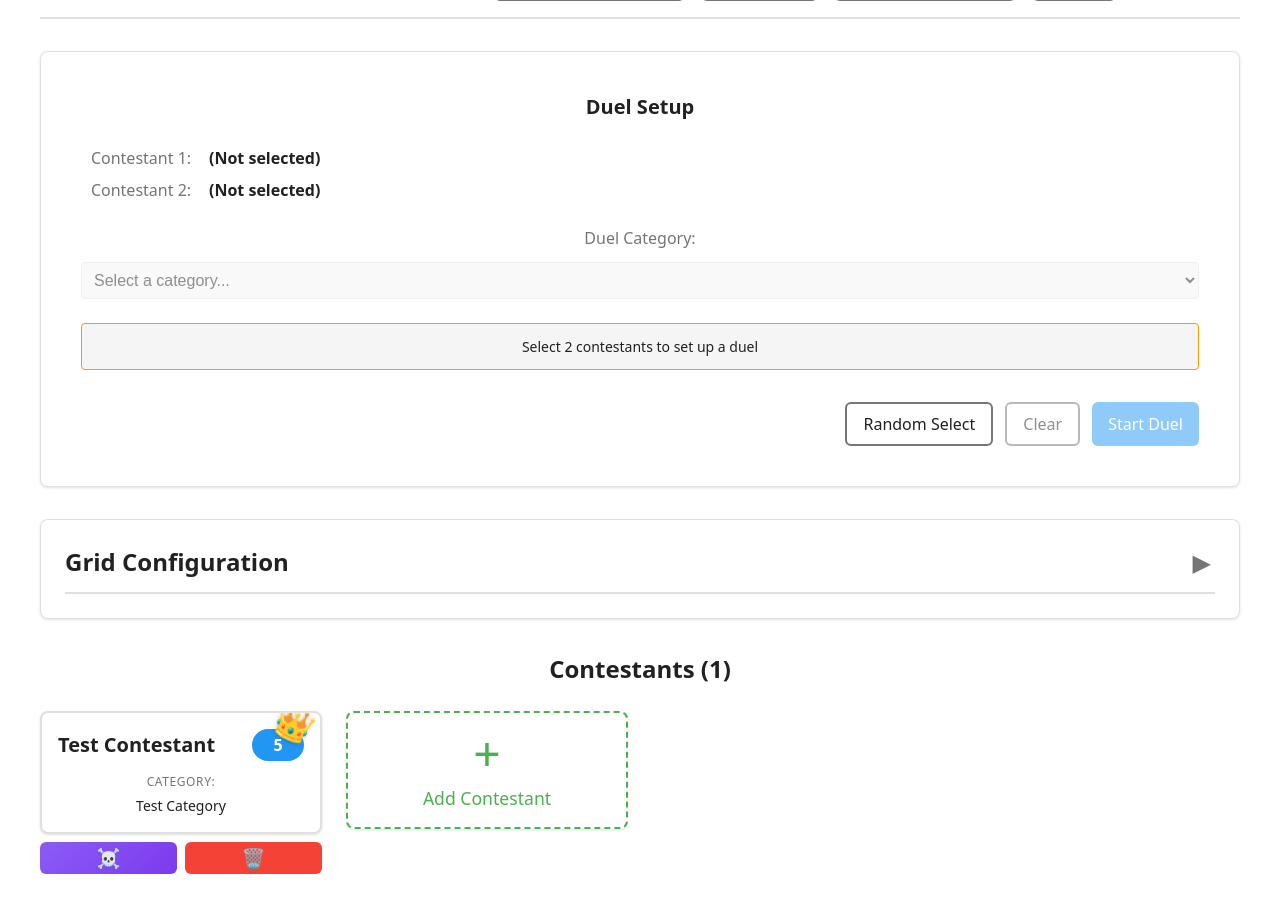
Test: Dashboard › shows delete confirmation modal when Delete button clicked
(page scrolled)
Click the button titled "Delete contestant permanently" at {"x": 254, "y": 858}, box [185,842,322,874]
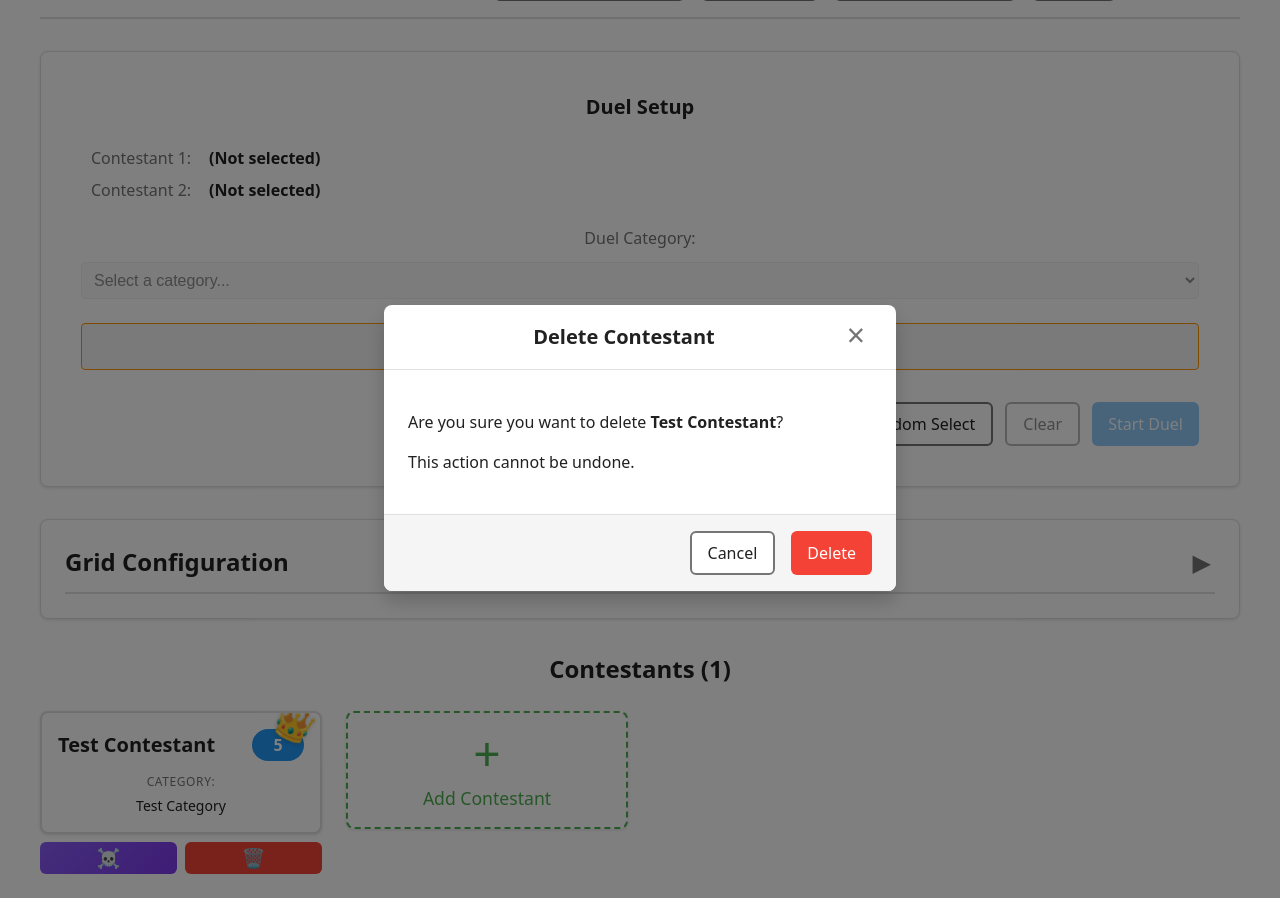
Expected: the dialog "Delete Contestant" is shown, [384,305,896,591]
Expected: the text "Are you sure you want to delete Test Contestant?" is shown, [408,411,783,433]
